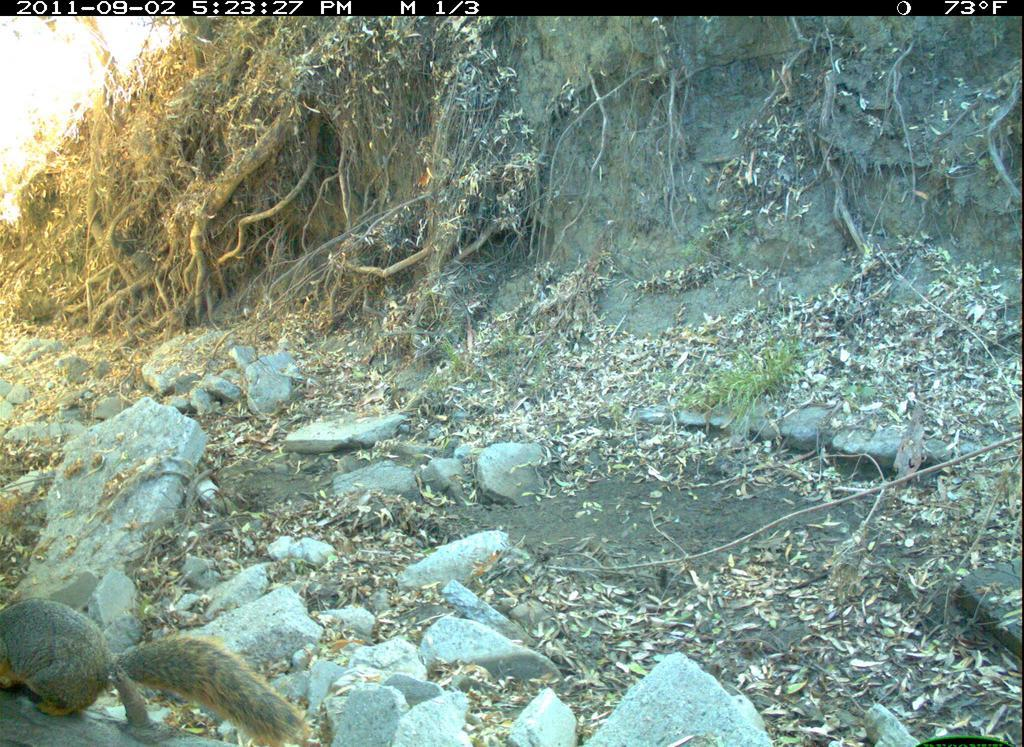squirrel: (4, 575, 326, 744)
